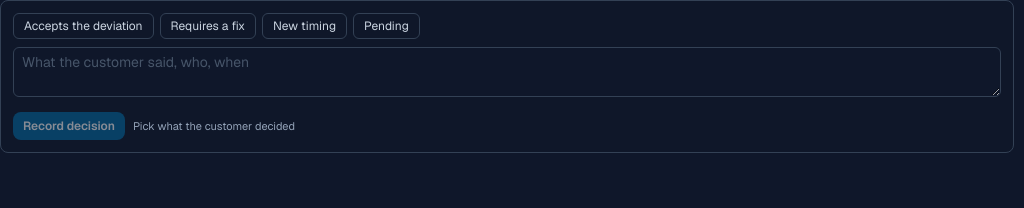
Test case: customer decision › accepting a concession needs the customer mail filed into the issue
The image size is (1024, 208).
Click the radio button with test id "customer-decision-accept_deviation" at (83, 26), box [13, 13, 154, 39]
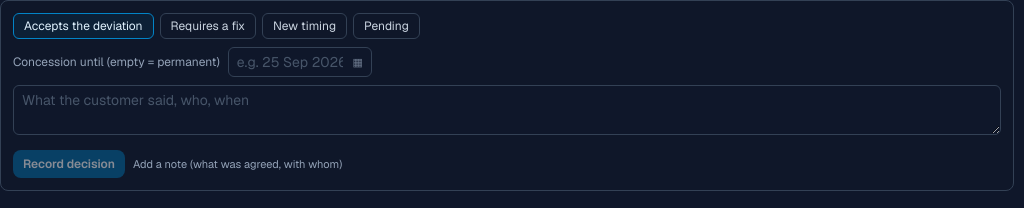
Type "Mr. K agreed on the phone" into the text box with test id "customer-note" at (507, 110), box [13, 85, 1001, 135]
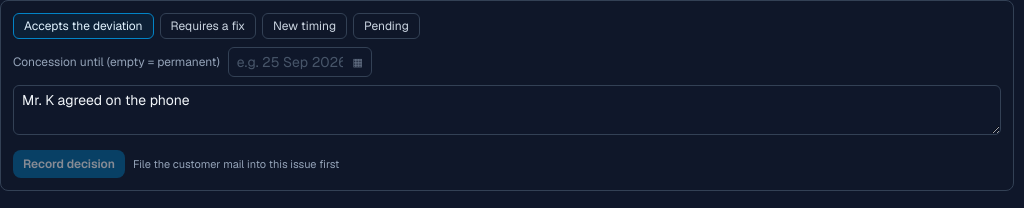
Expected: the button with test id "customer-submit" is disabled, [13, 150, 125, 178]
Expected: the text with test id "customer-blocked" reads "File the customer mail into this issue first", [133, 157, 339, 171]
